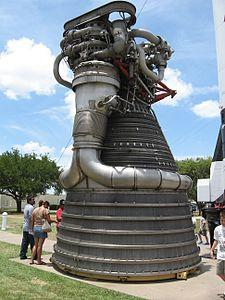thruster: (49, 109, 204, 286)
